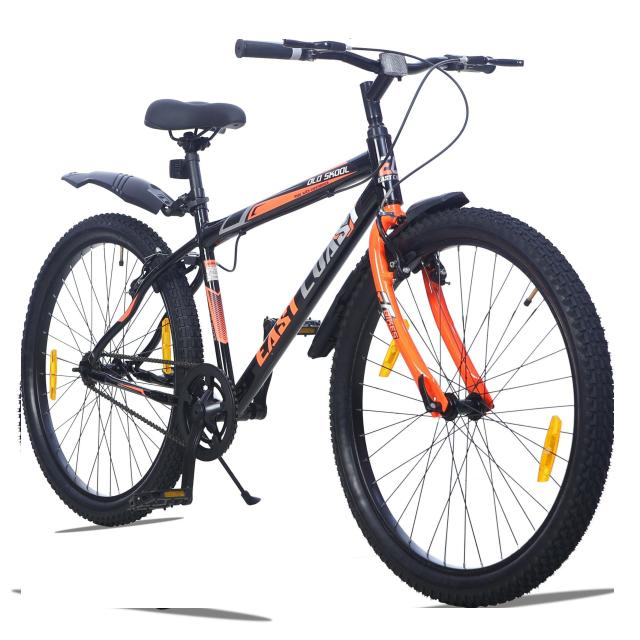bicycle: (21, 40, 613, 608)
